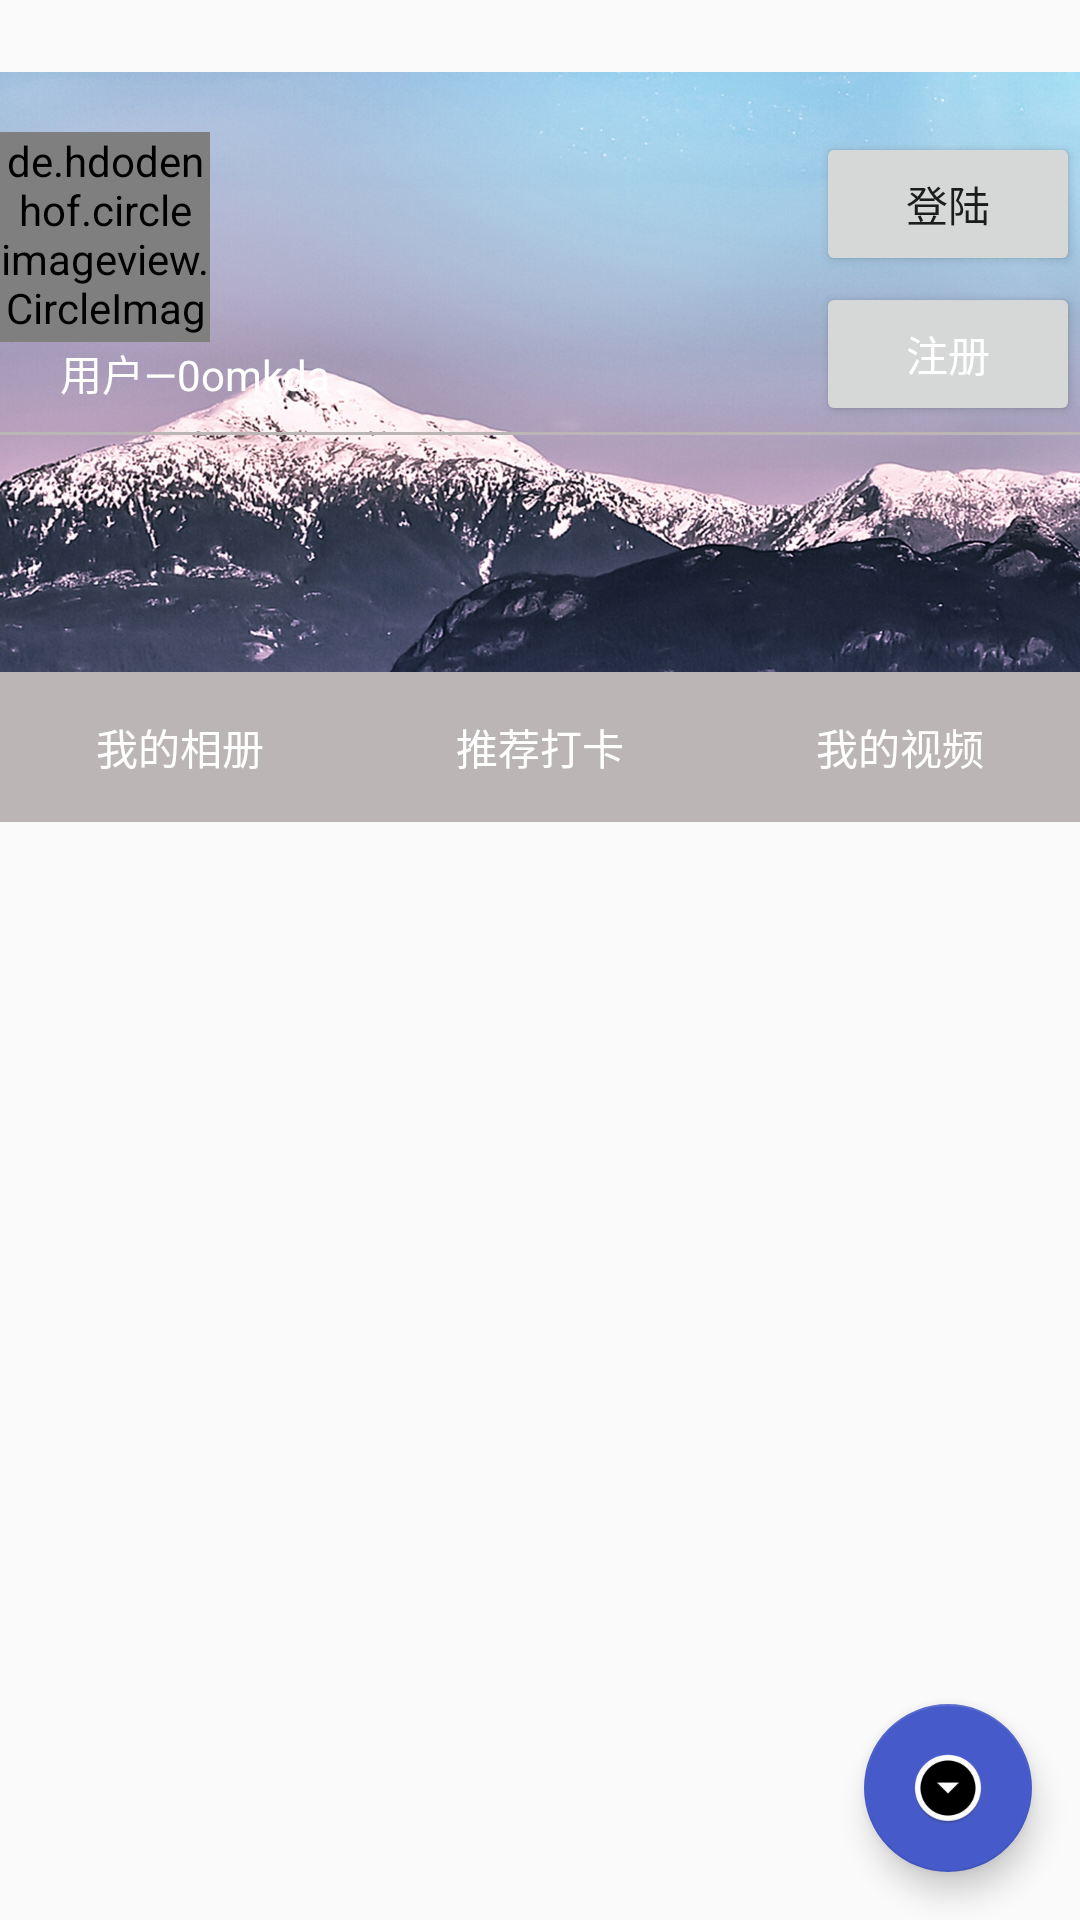

Icons on this 1080px x 1920px Android screen, each with its box as (x1, y1, x2, y2):
xuanfu: (864, 1704, 1032, 1872)
